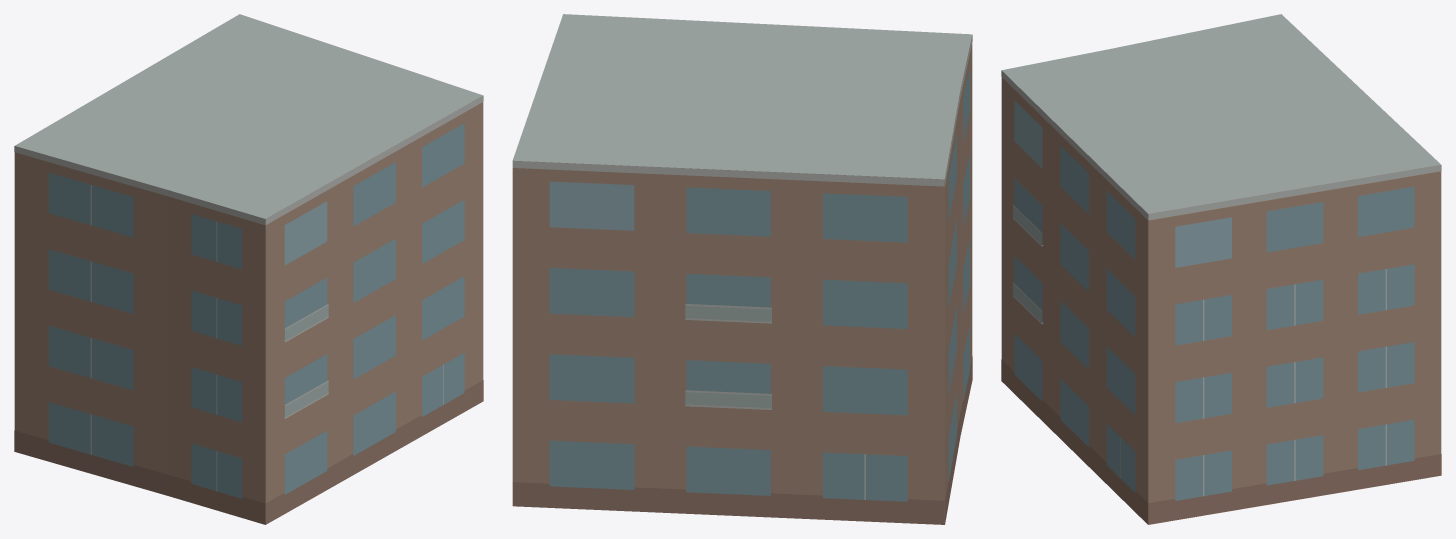
File: survey-upis-32862898.glb
3 renders of one model, left to right at view 1: azimuth 30°, elevation 25°; view 2: azimuth 150°, elevation 25°; view 3: azimuth 270°, elevation 25°, orthographic. The views are drawn at different scales.
Parts seen in each view (by area): view 1: survey-upis-32862898.tmp; view 2: survey-upis-32862898.tmp; view 3: survey-upis-32862898.tmp.
Part boxes in pixels (x1=…): survey-upis-32862898.tmp: x1=14, y1=14, x2=483, y2=524; survey-upis-32862898.tmp: x1=512, y1=14, x2=972, y2=524; survey-upis-32862898.tmp: x1=1001, y1=14, x2=1441, y2=524.
Size of the model in its own units: 16.16 by 11.7 by 15.02.
